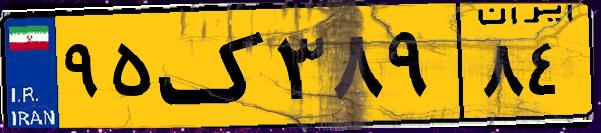3: (270, 28, 330, 110)
4: (525, 38, 570, 115)
5: (110, 28, 158, 98)
8: (330, 28, 385, 110), (475, 38, 525, 113)
9: (385, 28, 445, 110), (57, 26, 110, 100)
ک: (158, 12, 270, 120)
